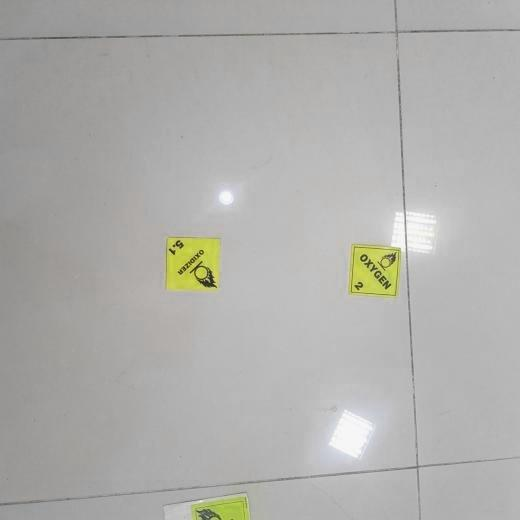oxidizer: (164, 235, 224, 293), (350, 244, 402, 296)
